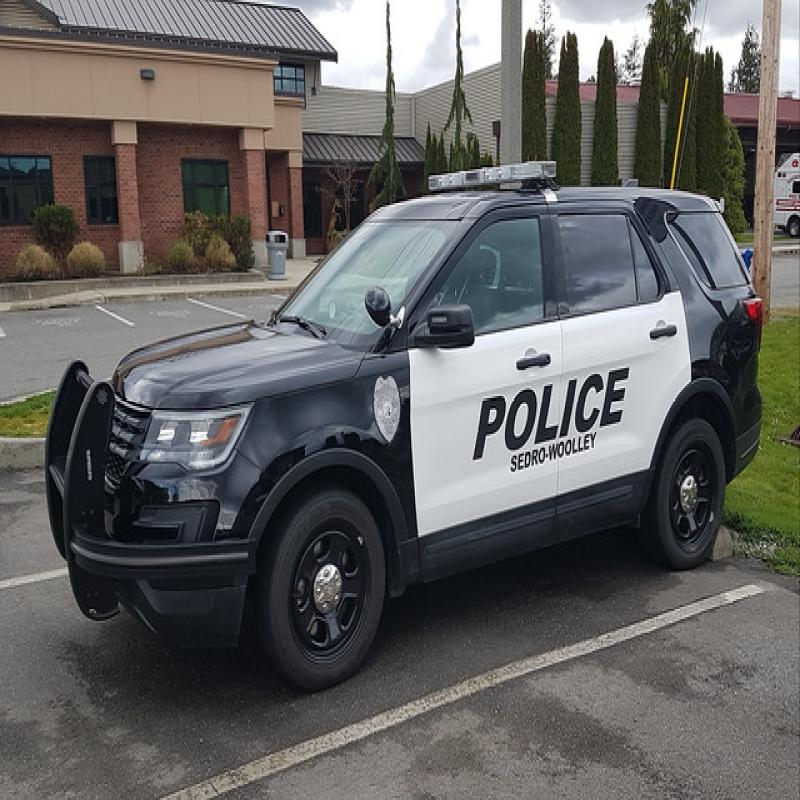AmbulanceSiren: (416, 156, 564, 194)
